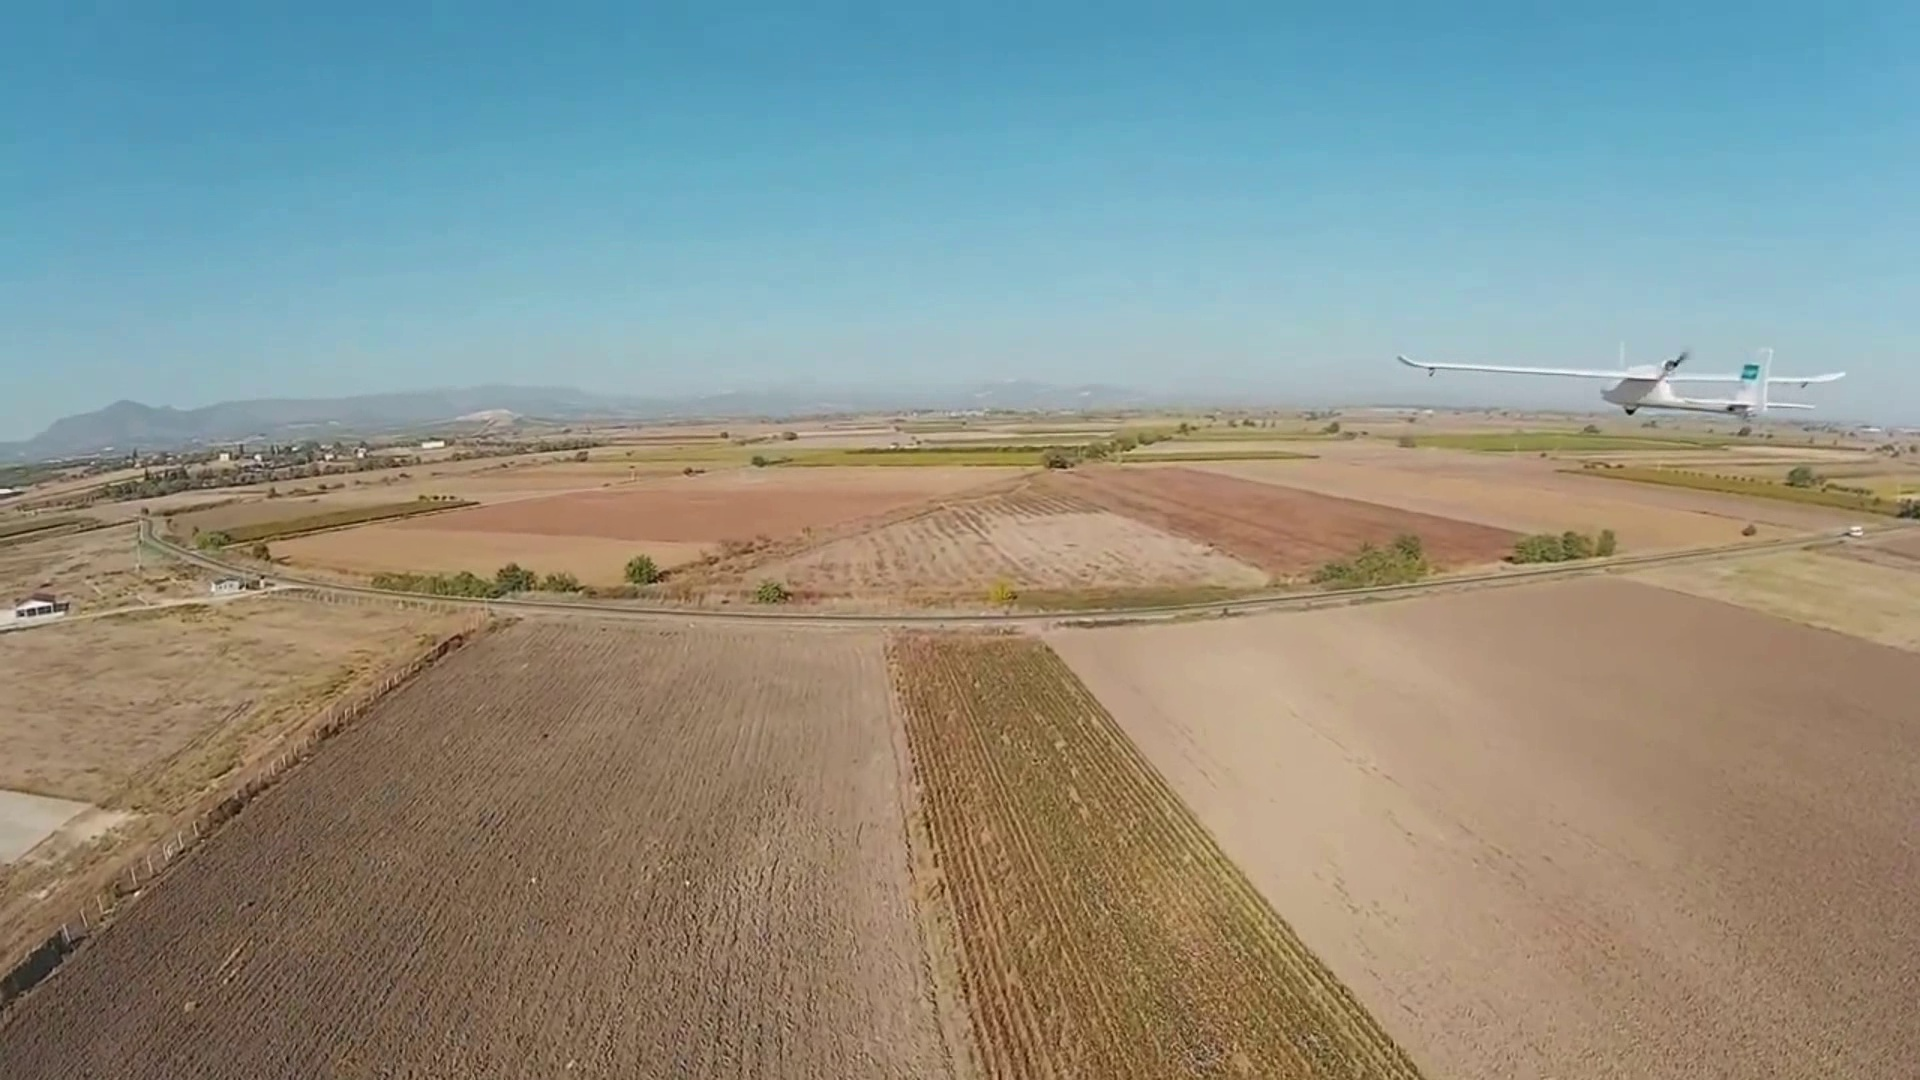airplane: (1395, 343, 1841, 427), (1395, 342, 1695, 415)
